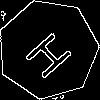H: (23, 24, 81, 81)
